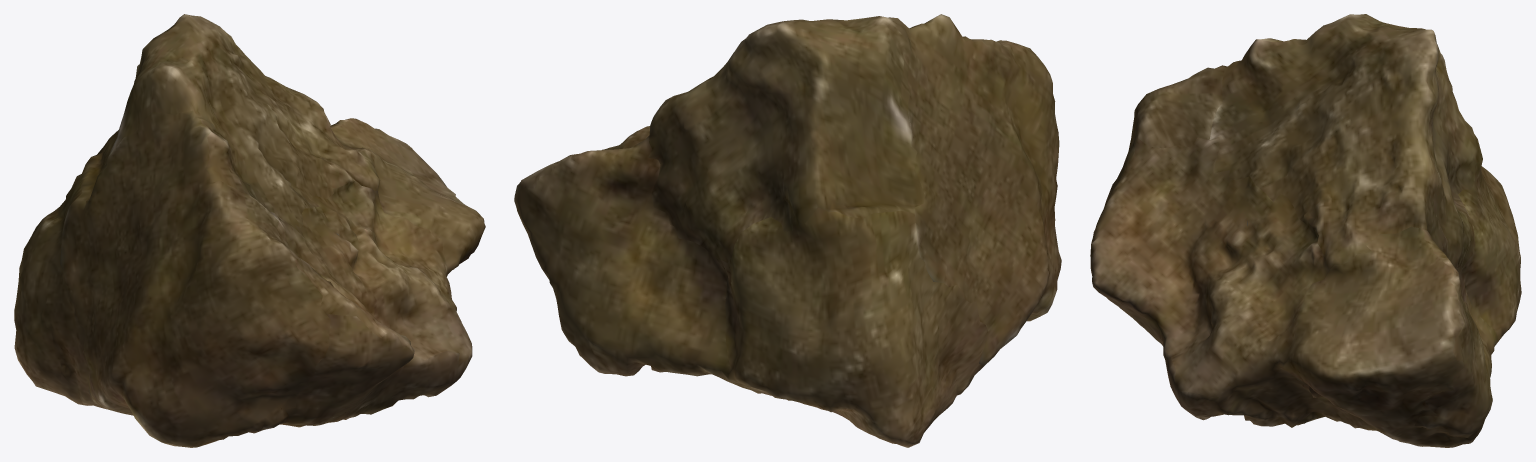
The model's file is mossrock-4.glb.
3 renders of one model, left to right at view 1: azimuth 30°, elevation 25°; view 2: azimuth 150°, elevation 25°; view 3: azimuth 270°, elevation 25°, orthographic. The views are drawn at different scales.
Visible parts, largest first — view 1: rock_moss_set_01_rock04; view 2: rock_moss_set_01_rock04; view 3: rock_moss_set_01_rock04.
Part boxes in pixels (left/top/right/bottom): rock_moss_set_01_rock04: left=14, top=14, right=485, bottom=447; rock_moss_set_01_rock04: left=514, top=14, right=1061, bottom=447; rock_moss_set_01_rock04: left=1090, top=14, right=1521, bottom=447.
Bounding box in the file's own units: 2.13 × 1.77 × 1.96.
Materials: 1 (1 with a texture image).
